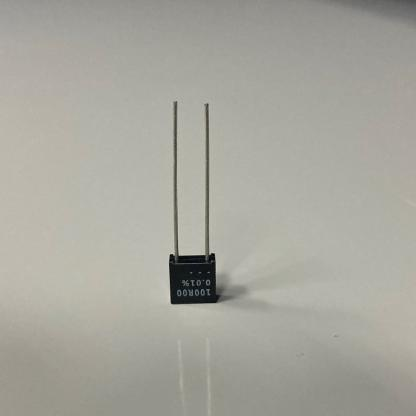SP0000007: (116, 56, 273, 343)
